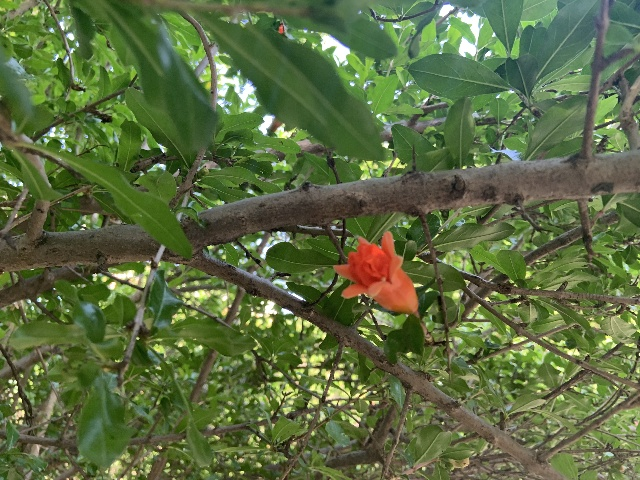flower: (333, 230, 418, 313)
